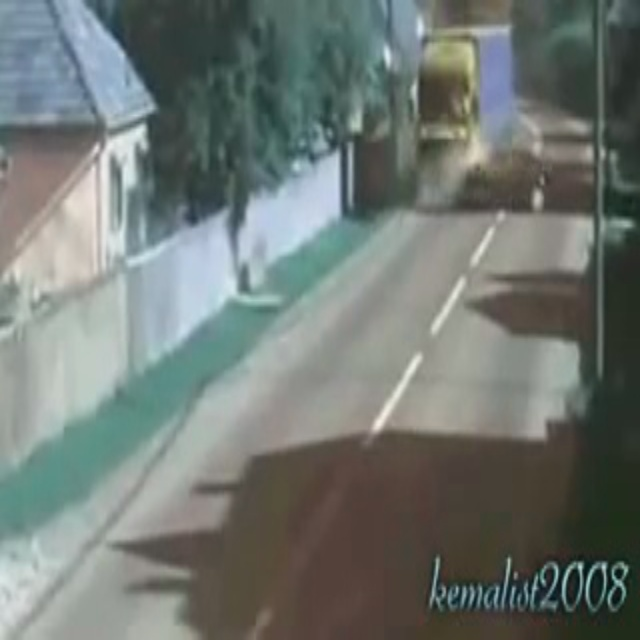acc: (406, 124, 563, 218)
